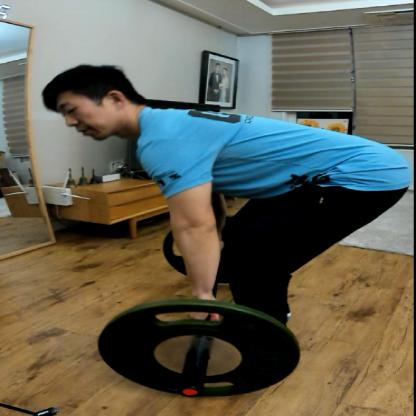Barbell: (79, 294, 312, 410)
